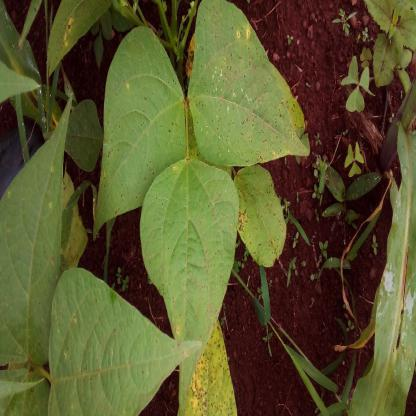Beans_Rust: (45, 269, 196, 416), (92, 28, 190, 232), (187, 0, 308, 164), (0, 99, 72, 367), (228, 164, 288, 268), (187, 319, 241, 416)
